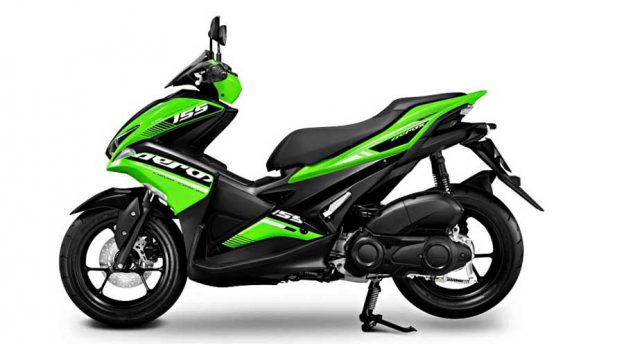motorcycle: (59, 49, 536, 334)
